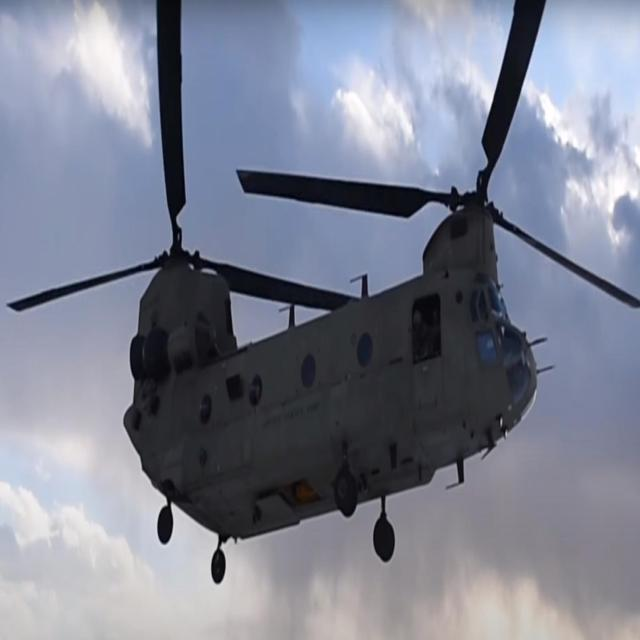Helicopter: (107, 149, 548, 592)
